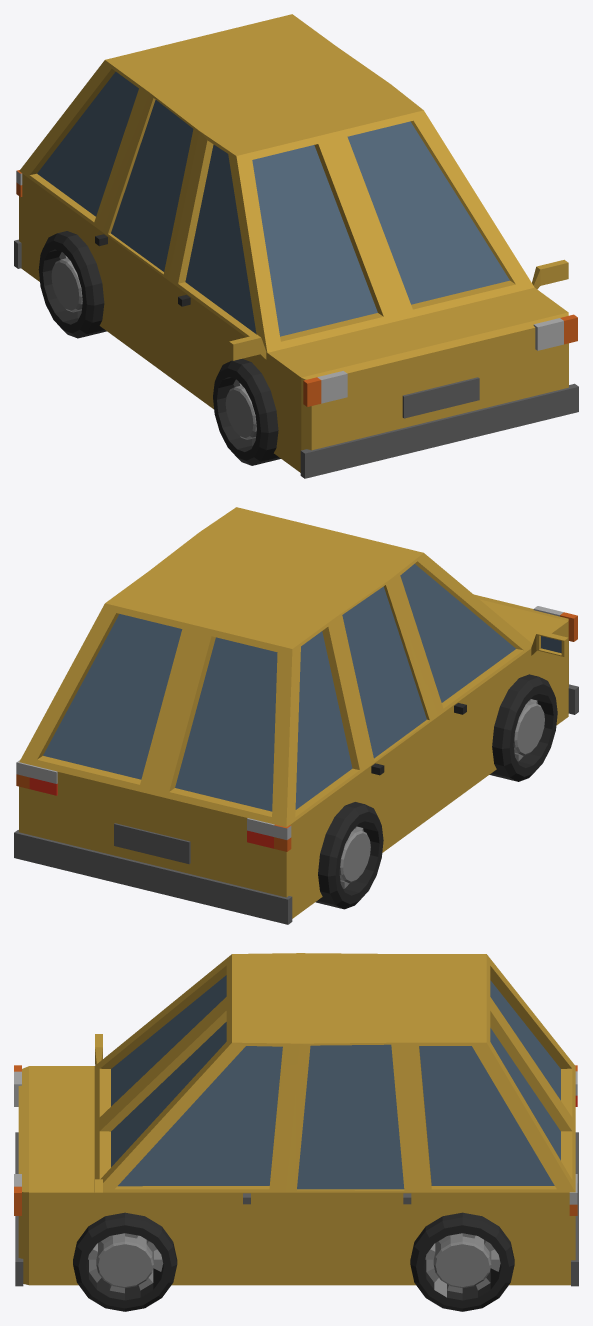
Rendered from YellowCar.fbx.
3 views of the same model, one above another, from view 1: azimuth 30°, elevation 25°; view 2: azimuth 150°, elevation 25°; view 3: azimuth 270°, elevation 25° (orthographic). The views are drawn at different scales.
Parts seen in each view (by area): view 1: Yellow; view 2: Yellow; view 3: Yellow.
Boxes of the visible parts, x1,y1,x2,y2 form: Yellow: (14,14,578,478); Yellow: (14,507,578,924); Yellow: (14,953,578,1311).
Size of the model in its own units: 216 by 156 by 325.
